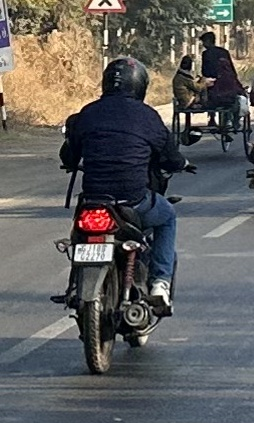BikeWithRider: (48, 53, 198, 373)
Helmet: (97, 53, 150, 106)
